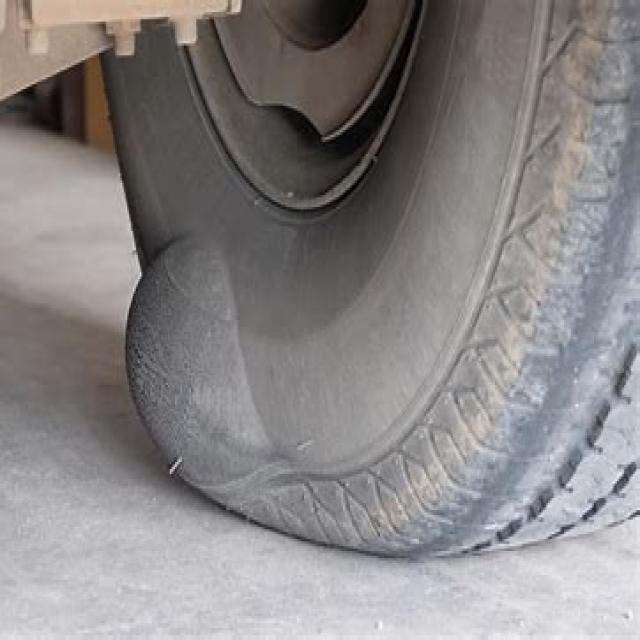Bulge: (121, 218, 281, 522)
